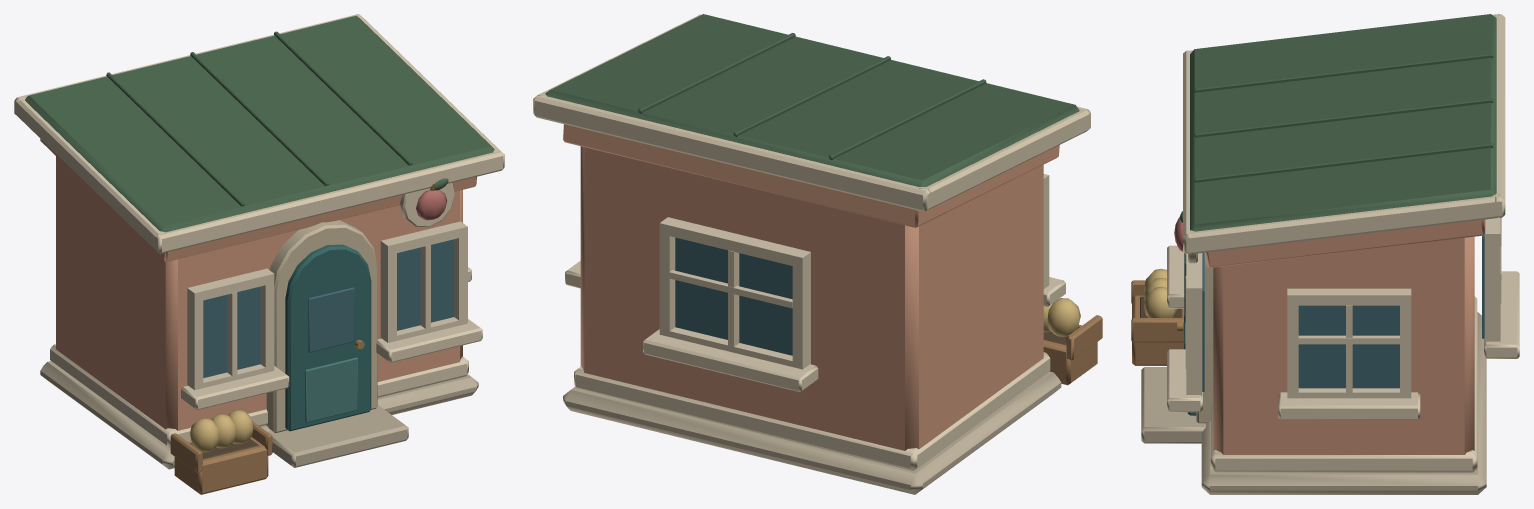
The model's file is grocer_level_1.glb.
3 renders of one model, left to right at view 1: azimuth 30°, elevation 25°; view 2: azimuth 150°, elevation 25°; view 3: azimuth 270°, elevation 25°, orthographic. The views are drawn at different scales.
Parts seen in each view (by area): view 1: grocer_level_1_runtime; view 2: grocer_level_1_runtime; view 3: grocer_level_1_runtime.
Part boxes in pixels (left/top/right/bottom): grocer_level_1_runtime: left=14, top=14, right=504, bottom=494; grocer_level_1_runtime: left=533, top=14, right=1102, bottom=494; grocer_level_1_runtime: left=1131, top=14, right=1519, bottom=494.
Size of the model in its own units: 3.42 by 2.62 by 2.93.
